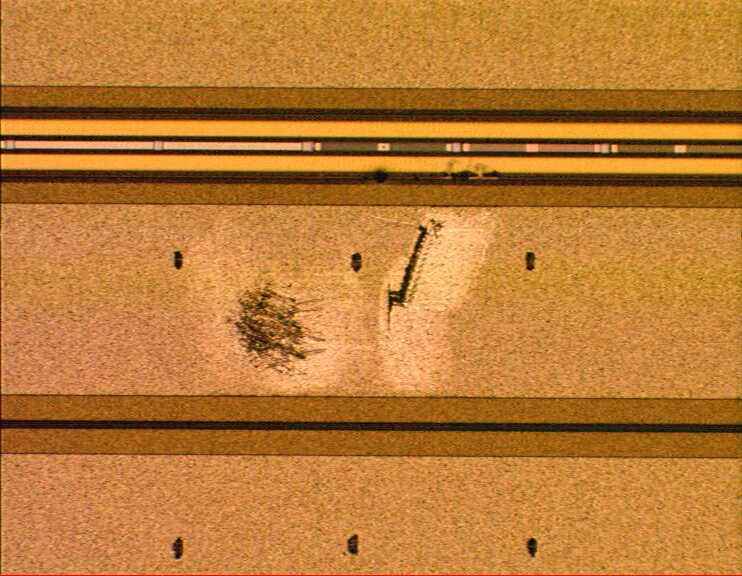SCRATCH: (170, 159, 521, 411)
